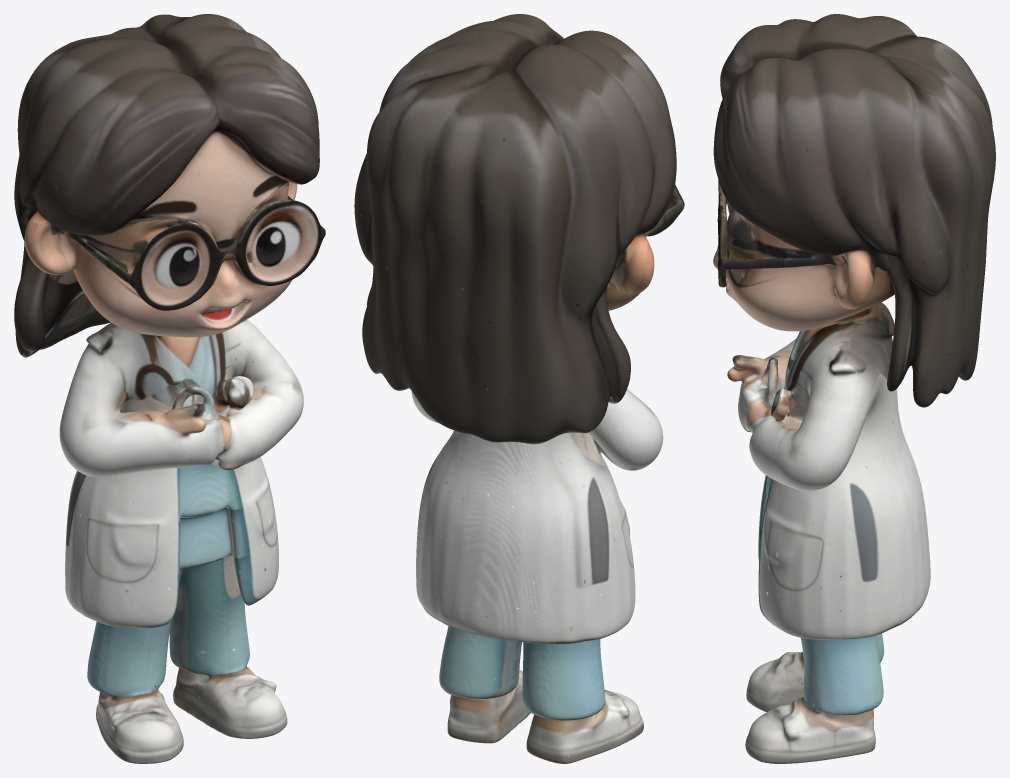
Rendered from female-doctor.glb.
The picture shows the model from 3 angles, left to right: view 1: azimuth 30°, elevation 25°; view 2: azimuth 150°, elevation 25°; view 3: azimuth 270°, elevation 25°; orthographic projection. The views are drawn at different scales.
Bounding box in the file's own units: 0.8337 × 2 × 0.7492.
1 material, 1 textured.
